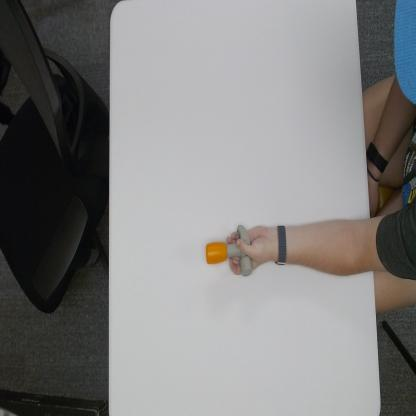Arm: (289, 217, 372, 277)
Hammer: (206, 223, 252, 278)
Hand: (226, 225, 272, 277)
